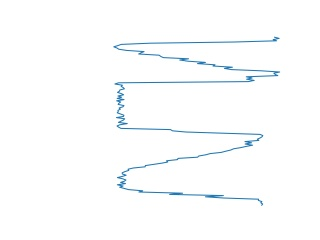distributaryChannelFill: (113, 73, 269, 144)
mouthBar: (111, 33, 282, 76)
underwaterDistributaryChannel: (114, 140, 266, 209)
